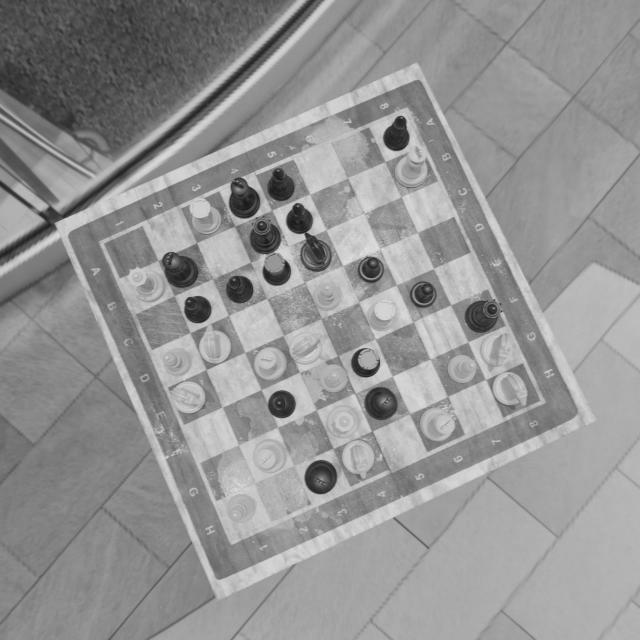chessboard: (104, 108, 543, 544)
